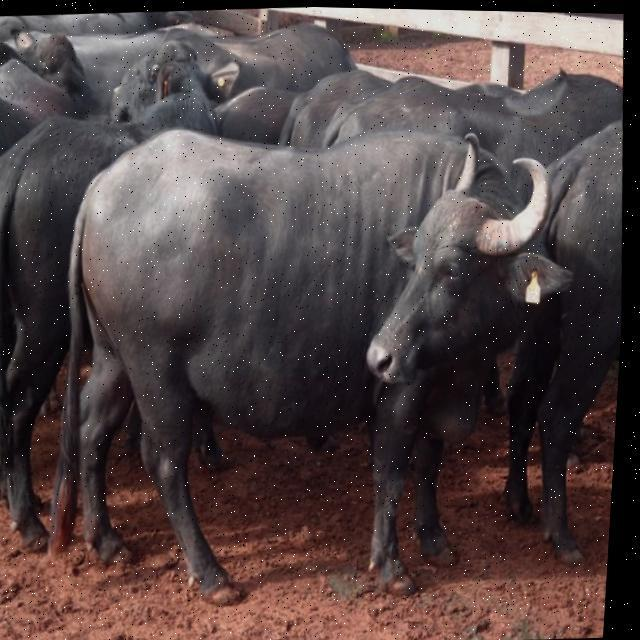Buffalo: (20, 103, 598, 622)
